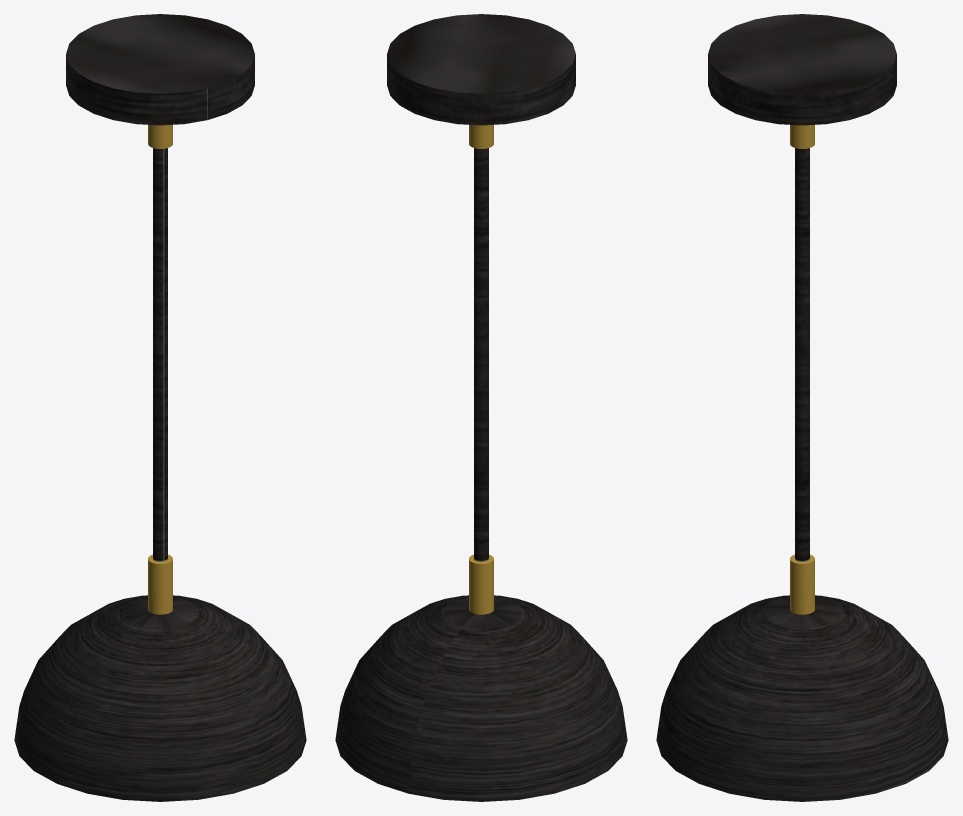
The model's file is pendantLamp_1.fbx.
3 renders of one model, left to right at view 1: azimuth 30°, elevation 25°; view 2: azimuth 150°, elevation 25°; view 3: azimuth 270°, elevation 25°, orthographic.
Parts seen in each view (by area): view 1: pendantLamp_1; view 2: pendantLamp_1; view 3: pendantLamp_1.
Boxes of the visible parts, bbox=[...] form: pendantLamp_1: bbox=[14, 14, 306, 801]; pendantLamp_1: bbox=[335, 14, 627, 801]; pendantLamp_1: bbox=[656, 14, 948, 801].
Bounding box in the file's own units: 60 × 164 × 60.
